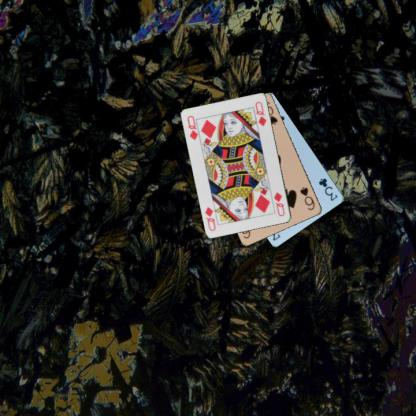3c: (316, 176, 339, 202)
6s: (298, 184, 316, 212)
Qd: (185, 113, 202, 142), (272, 189, 286, 218)
